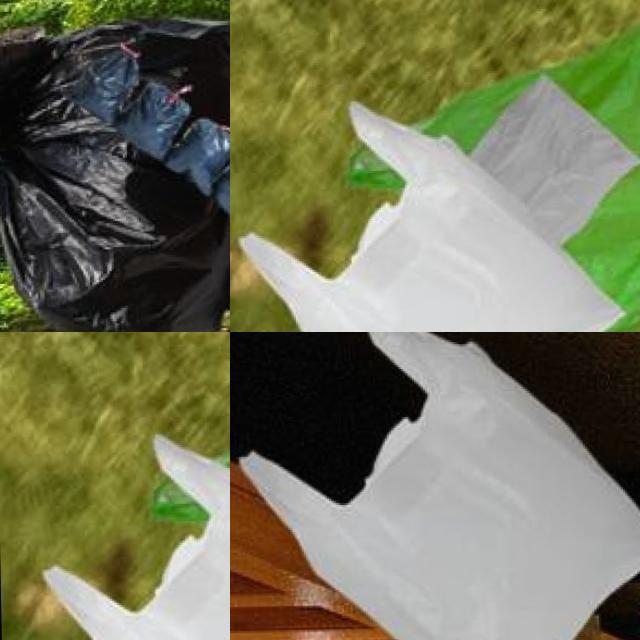Single-layer Plastic: (240, 334, 640, 640), (241, 104, 619, 331), (0, 20, 229, 329), (44, 435, 230, 640), (471, 76, 638, 247), (421, 26, 640, 156), (230, 464, 392, 639), (565, 165, 640, 329)
